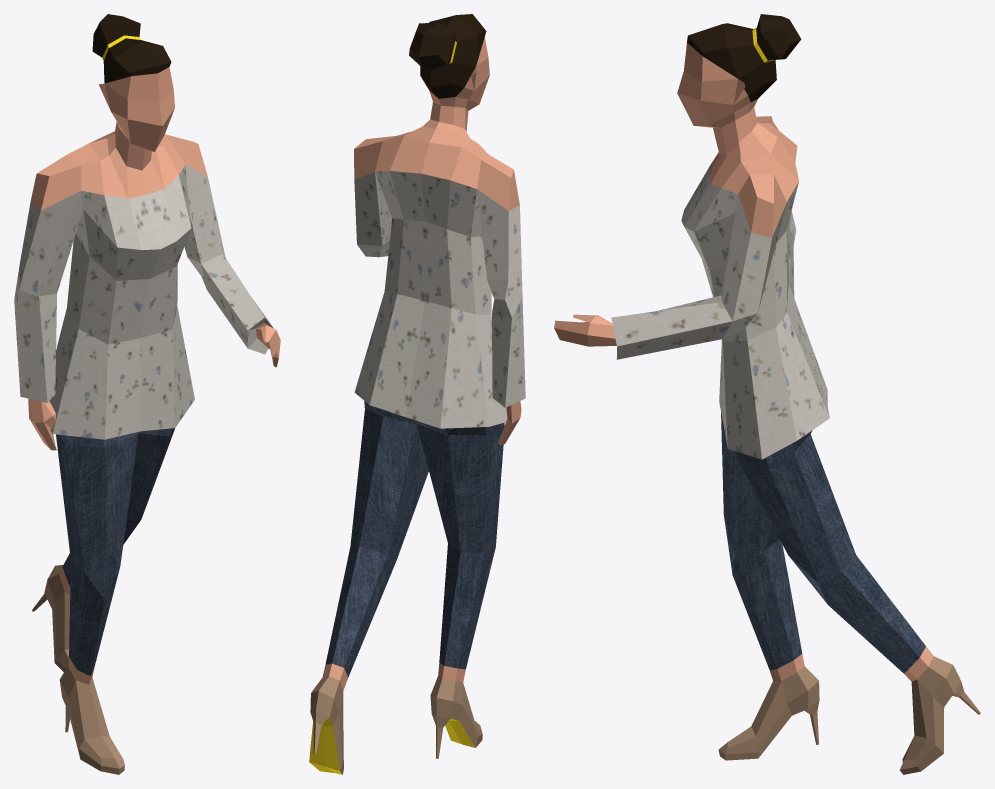
File: SpringWomanA.007.glb
3 renders of one model, left to right at view 1: azimuth 30°, elevation 25°; view 2: azimuth 150°, elevation 25°; view 3: azimuth 270°, elevation 25°, orthographic. The views are drawn at different scales.
Visible parts, largest first — view 1: SpringWomanA.008; view 2: SpringWomanA.008; view 3: SpringWomanA.008.
Boxes of the visible parts, <box> form: SpringWomanA.008: <box>14,14,280,774</box>; SpringWomanA.008: <box>309,14,525,774</box>; SpringWomanA.008: <box>554,14,980,774</box>.
Bounding box in the file's own units: 0.4562 × 1.71 × 0.882.
Materials: 1 (1 with a texture image).
